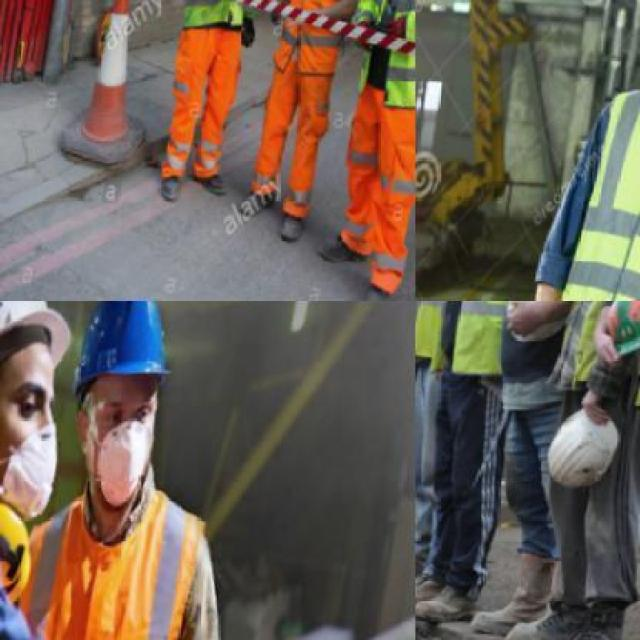Vest: (0, 474, 217, 638), (538, 66, 638, 299), (432, 300, 543, 391), (564, 300, 638, 411), (344, 0, 413, 115), (167, 0, 270, 38), (278, 0, 357, 46), (416, 300, 458, 363)
